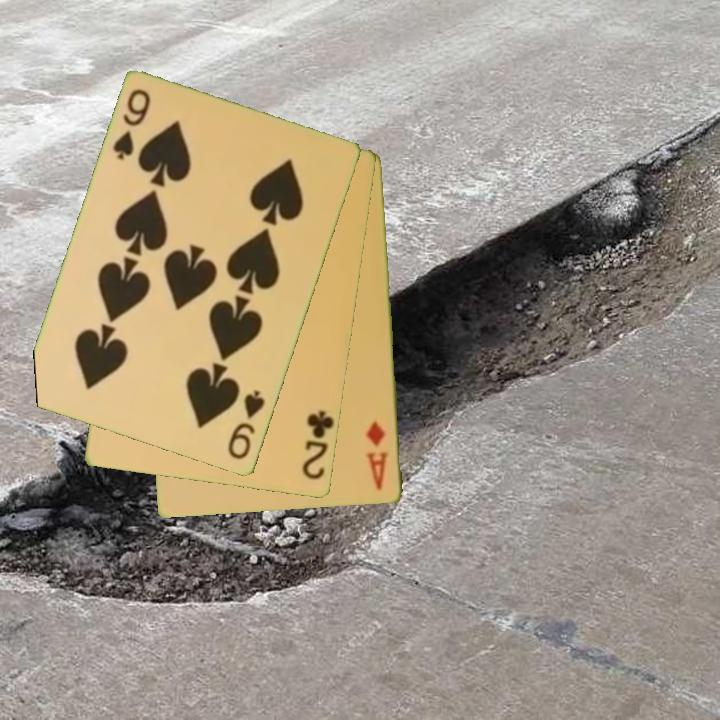2c: (299, 407, 337, 483)
9s: (109, 86, 154, 164), (224, 387, 268, 463)
Ad: (363, 417, 393, 493)
